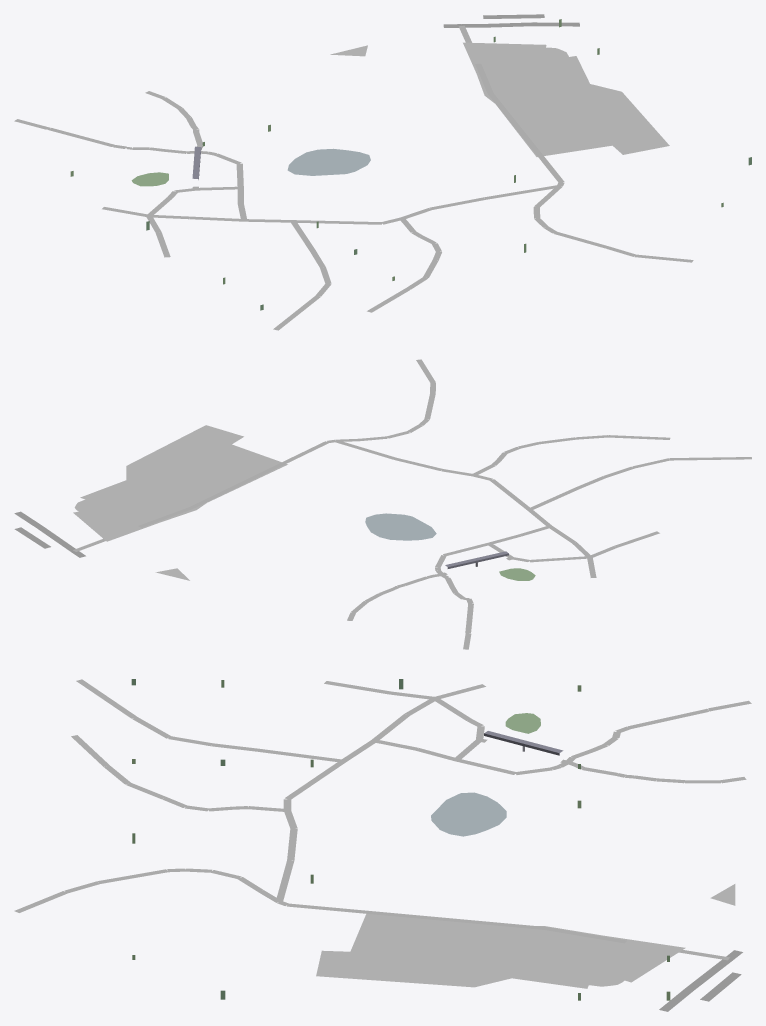
The picture shows the model from 3 angles, top to bottom: view 1: azimuth 30°, elevation 25°; view 2: azimuth 150°, elevation 25°; view 3: azimuth 270°, elevation 25°; orthographic projection. The views are drawn at different scales.
Size of the model in its own units: 511 by 15.47 by 497.
